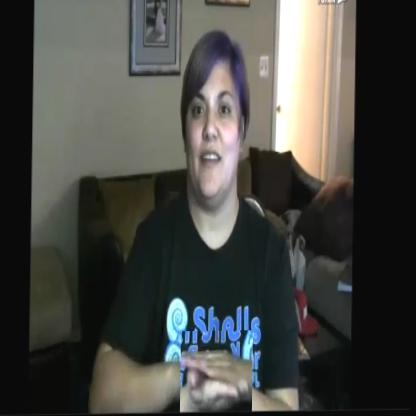NiceToMeetYou: (181, 331, 254, 414)
